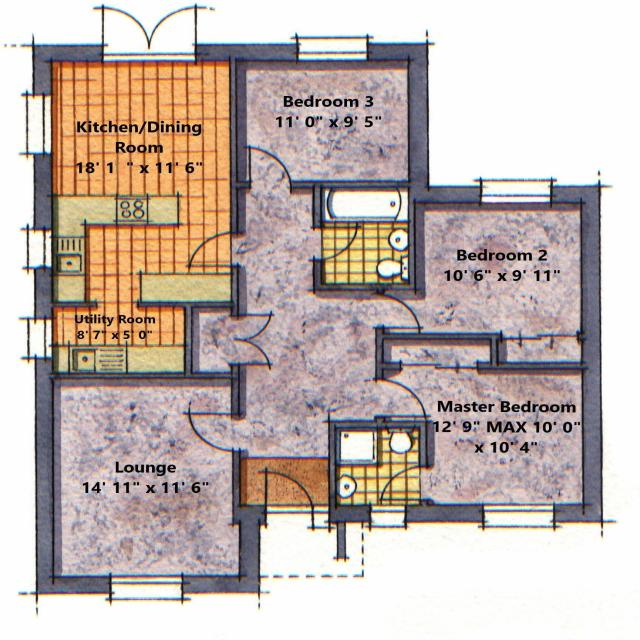DOOR: (262, 466, 319, 531), (369, 375, 435, 421), (183, 410, 247, 457), (183, 228, 246, 271), (370, 288, 427, 334), (375, 462, 433, 505), (247, 143, 296, 193), (310, 223, 363, 265)
DOUBLE DOOR: (96, 2, 200, 60)
ROOM: (20, 3, 240, 379), (33, 371, 262, 604), (370, 330, 604, 532), (376, 176, 603, 374), (228, 34, 431, 190)
WINDOW: (106, 572, 186, 603), (479, 501, 560, 531), (294, 33, 371, 64), (477, 177, 555, 207), (22, 90, 56, 157), (24, 225, 56, 271), (25, 315, 57, 361), (367, 502, 411, 531)
